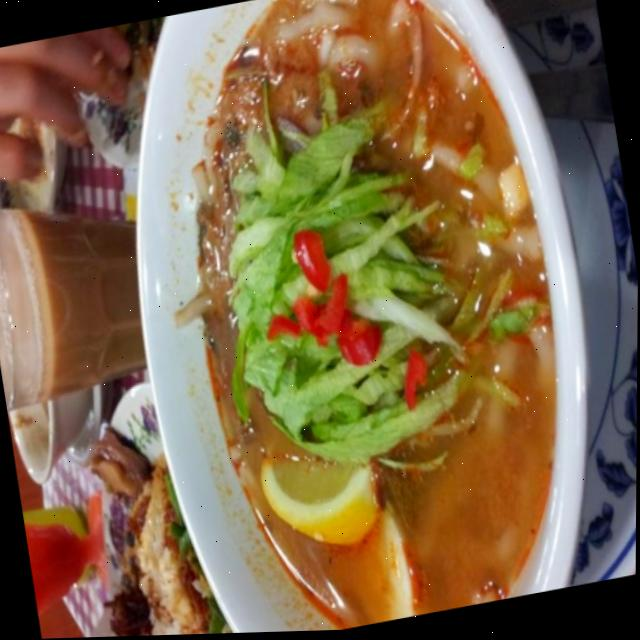面条主食: (93, 0, 632, 638)
